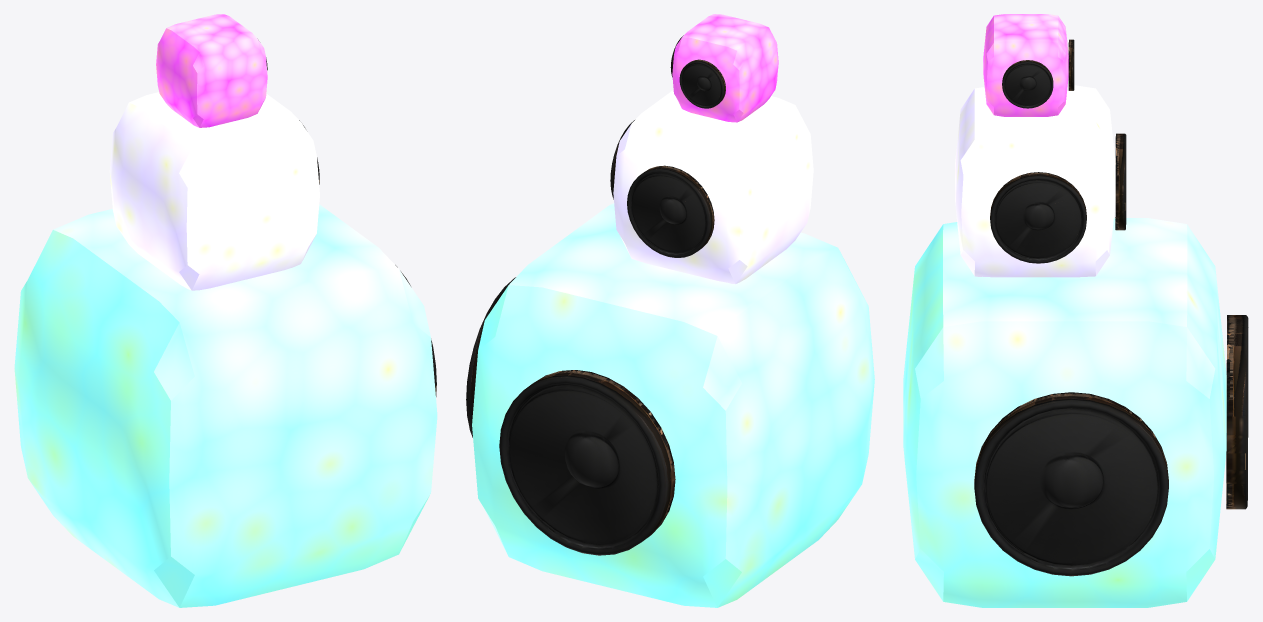
File: EnceinteBloc.glb
3 renders of one model, left to right at view 1: azimuth 30°, elevation 25°; view 2: azimuth 150°, elevation 25°; view 3: azimuth 270°, elevation 25°, orthographic. The views are drawn at different scales.
Visible parts, largest first — view 1: Cube, Cube.001, Cube.002; view 2: Cube, Mesh_0, Cube.001, Cube.002, Mesh_0.002, Mesh_0.004, Mesh_0.001; view 3: Cube, Mesh_0.001, Cube.001, Mesh_0.003, Cube.002, Mesh_0, Mesh_0.005, Mesh_0.002.
Part boxes in pixels (box(x1,y1,x2,y2)): Cube: box(14, 204, 437, 607); Cube.001: box(109, 92, 319, 290); Cube.002: box(156, 14, 267, 127); Cube: box(472, 203, 874, 607); Mesh_0: box(499, 370, 675, 555); Cube.001: box(613, 90, 813, 284); Cube.002: box(672, 14, 778, 122); Mesh_0.002: box(627, 165, 714, 257); Mesh_0.004: box(679, 59, 725, 108); Mesh_0.001: box(466, 277, 515, 437); Cube: box(903, 218, 1226, 607); Mesh_0.001: box(974, 392, 1168, 576); Cube.001: box(955, 85, 1115, 277); Mesh_0.003: box(990, 172, 1086, 263); Cube.002: box(983, 14, 1068, 116); Mesh_0: box(1226, 315, 1248, 509); Mesh_0.005: box(1002, 60, 1053, 108); Mesh_0.002: box(1115, 133, 1126, 230).
Bounding box in the file's own units: 2.09 × 3.48 × 2.09.
4 materials, 4 textured.
